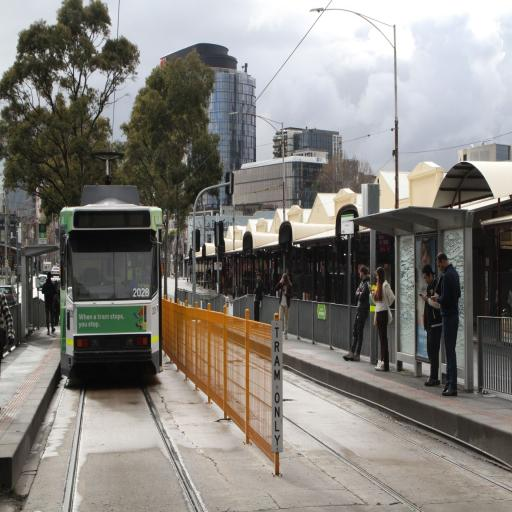platform_edge: (287, 347, 512, 433), (0, 338, 61, 457)
